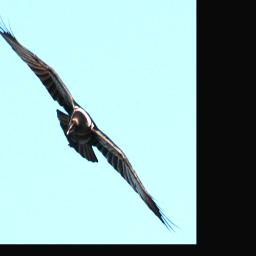Crow: (0, 0, 182, 236)
